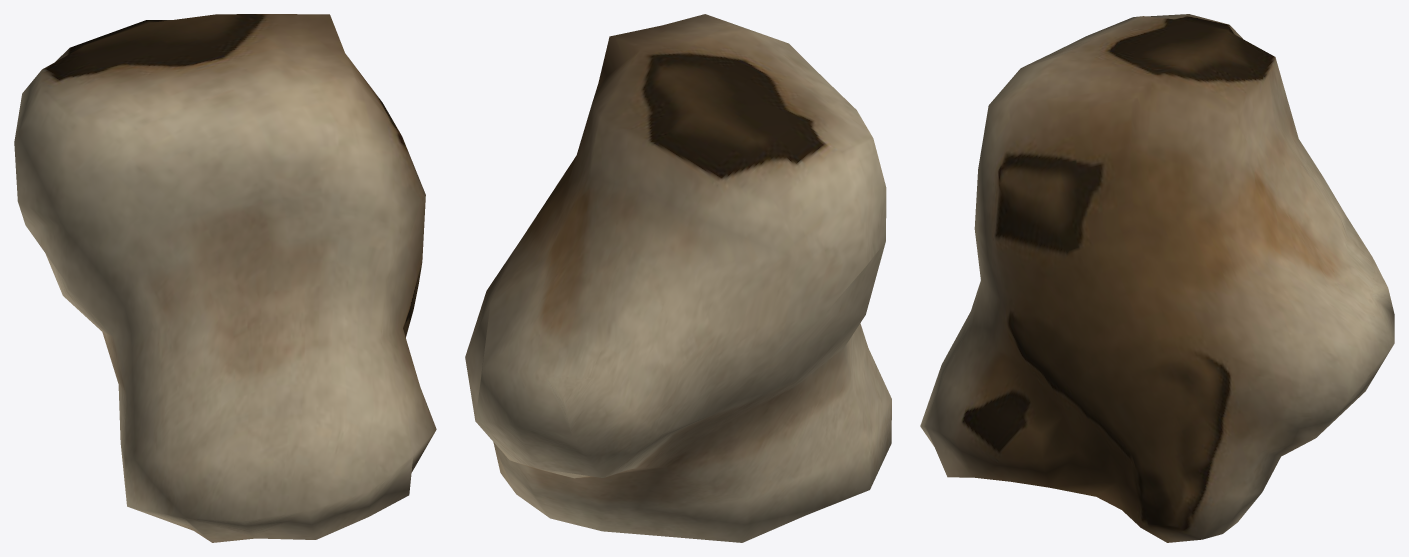
File: Tarsal_IV.glb
3 views of the same model, side by side, from view 1: azimuth 30°, elevation 25°; view 2: azimuth 150°, elevation 25°; view 3: azimuth 270°, elevation 25° (orthographic). The views are drawn at different scales.
Parts seen in each view (by area): view 1: Tarsal_IV_Right1:Group57595; view 2: Tarsal_IV_Right1:Group57595; view 3: Tarsal_IV_Right1:Group57595.
Boxes of the visible parts, x1=… form: Tarsal_IV_Right1:Group57595: x1=14, y1=14, x2=436, y2=542; Tarsal_IV_Right1:Group57595: x1=465, y1=14, x2=891, y2=542; Tarsal_IV_Right1:Group57595: x1=920, y1=14, x2=1394, y2=542.
Size of the model in its own units: 14.19 by 16.61 by 16.51.
Materials: 1 (1 with a texture image).
